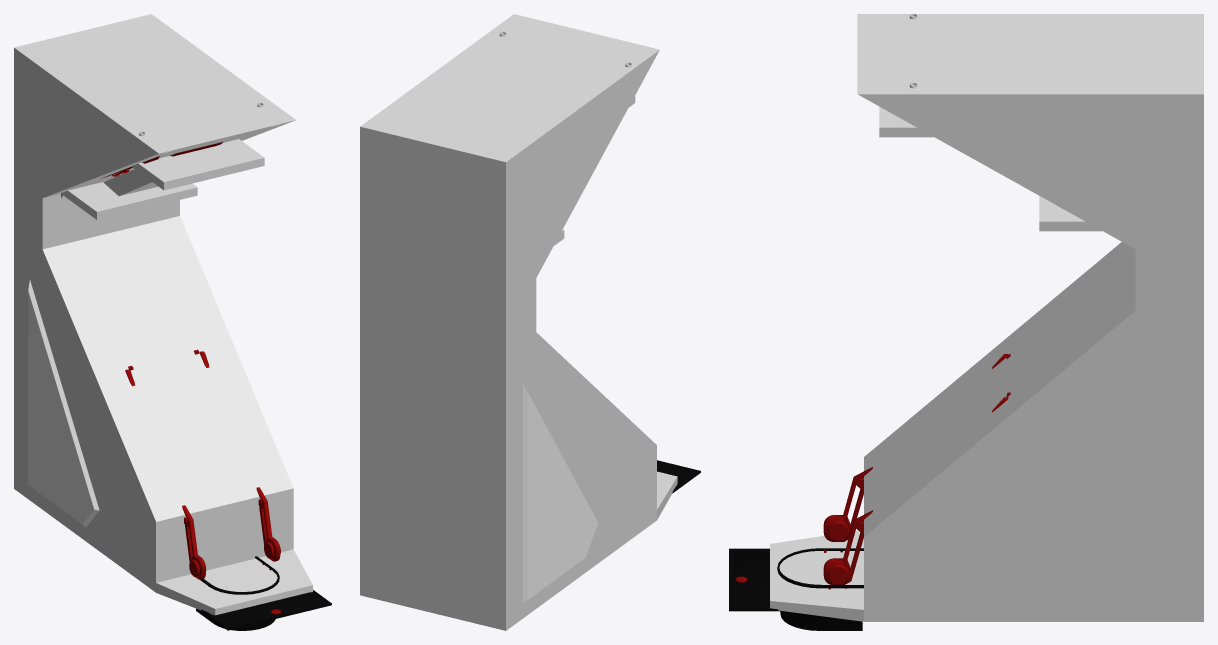
File: SFM_Wall05_A.FBX
3 renders of one model, left to right at view 1: azimuth 30°, elevation 25°; view 2: azimuth 150°, elevation 25°; view 3: azimuth 270°, elevation 25°, orthographic. The views are drawn at different scales.
Visible parts, largest first — view 1: SFM_Wall05_Pipe_Colider, SFM_Wall05_pipeA_LOD0; view 2: SFM_Wall05_Pipe_Colider, SFM_Wall05_pipeA_LOD0; view 3: SFM_Wall05_Pipe_Colider, SFM_Wall05_pipeA_LOD0.
Part boxes in pixels (<box>): SFM_Wall05_Pipe_Colider: <box>14,14,312,615</box>; SFM_Wall05_pipeA_LOD0: <box>28,103,331,630</box>; SFM_Wall05_Pipe_Colider: <box>360,14,677,630</box>; SFM_Wall05_pipeA_LOD0: <box>499,32,700,602</box>; SFM_Wall05_Pipe_Colider: <box>770,14,1203,621</box>; SFM_Wall05_pipeA_LOD0: <box>729,14,1010,630</box>.
Size of what is drawn, in the model's own units: 135 by 432 by 330.
